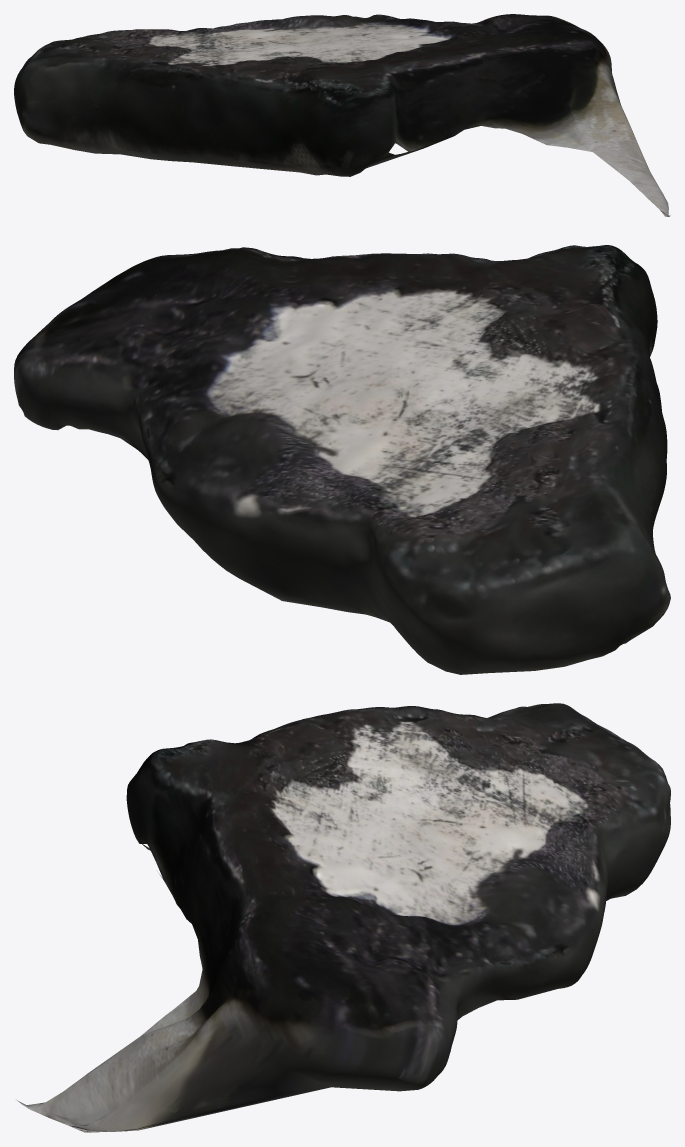
3 renders of one model, top to bottom at view 1: azimuth 30°, elevation 25°; view 2: azimuth 150°, elevation 25°; view 3: azimuth 270°, elevation 25°, orthographic. The views are drawn at different scales.
Size of the model in its own units: 0.739 by 0.2244 by 0.6494.
1 material, 1 textured.
